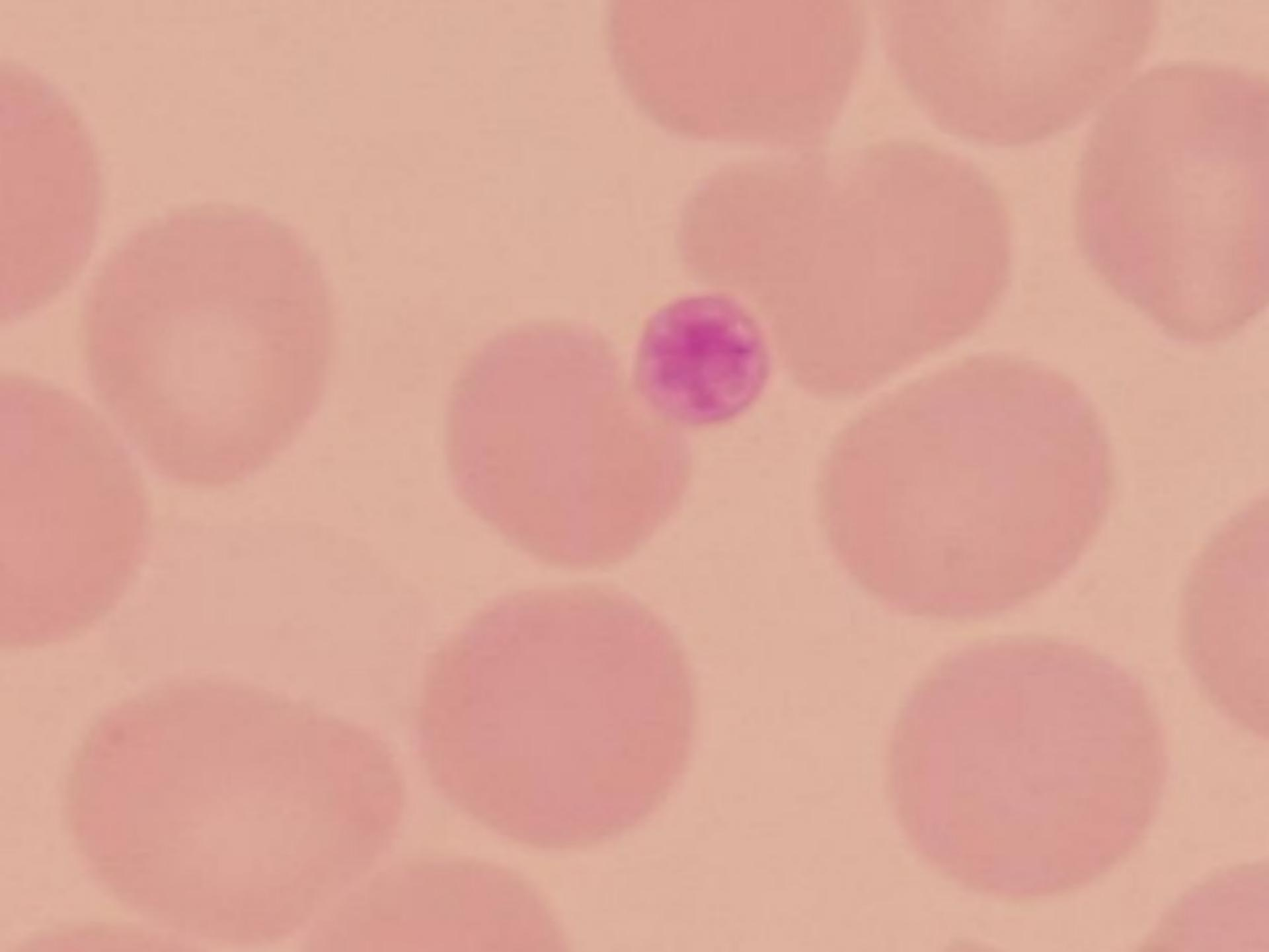Uninfected: (59, 684, 409, 936), (684, 141, 1017, 401), (816, 352, 1106, 620), (891, 633, 1164, 895), (423, 590, 695, 849), (81, 207, 327, 485), (444, 321, 692, 567), (1077, 63, 1269, 343), (0, 372, 152, 644), (881, 0, 1149, 145), (615, 0, 861, 147)
